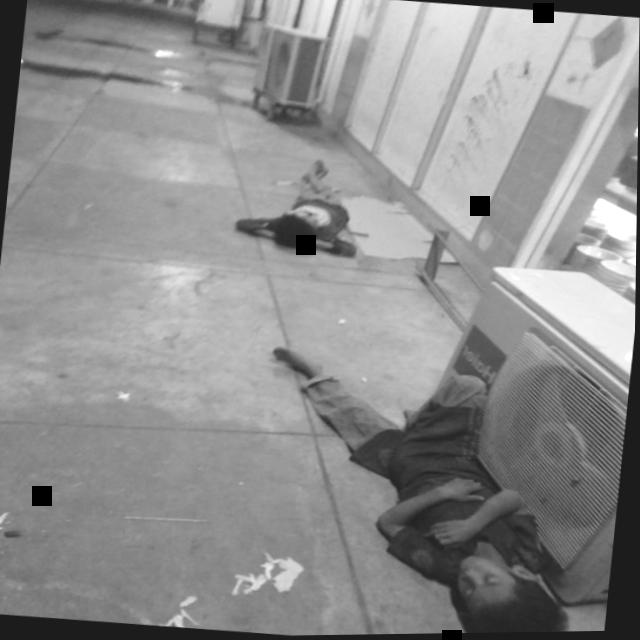Fall-Detected: (229, 136, 376, 269)
